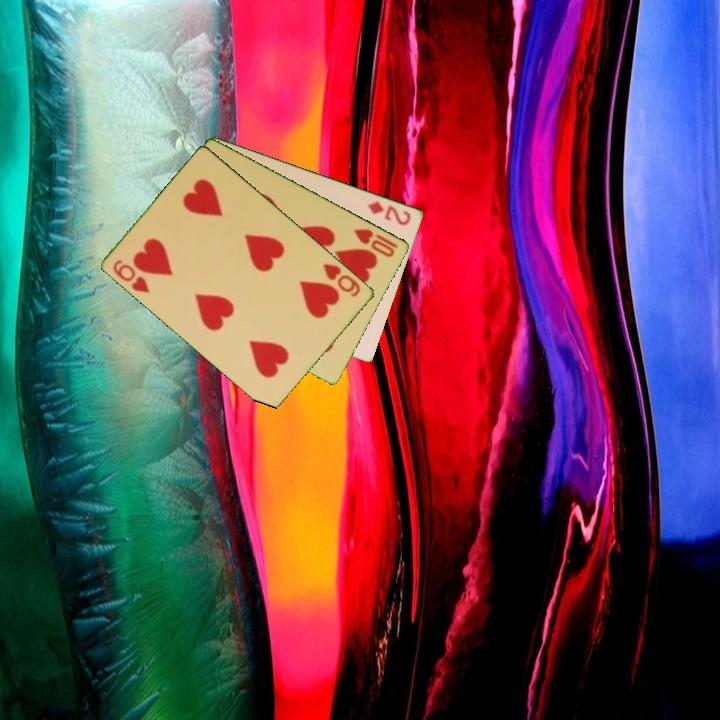10h: (350, 225, 398, 260)
2d: (365, 198, 414, 228)
6h: (320, 260, 364, 300), (110, 256, 153, 296)
